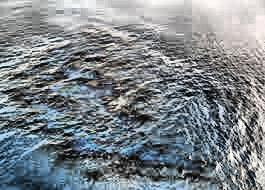rainbow: (29, 52, 160, 190)
